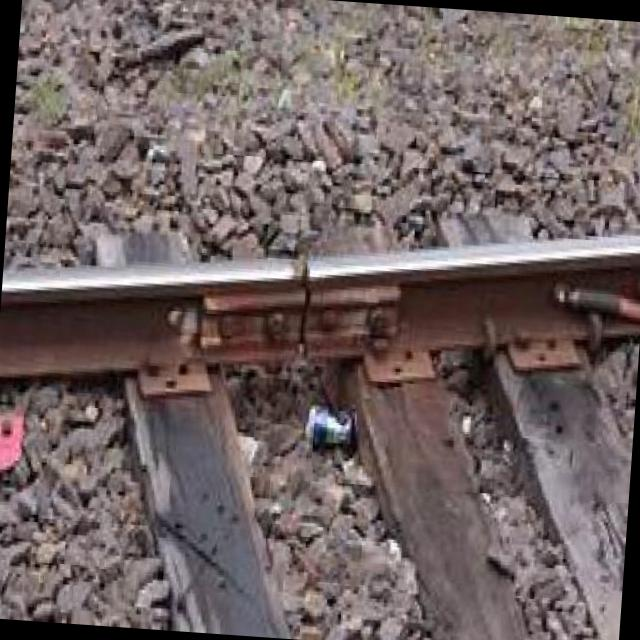defective: (7, 89, 640, 530)
